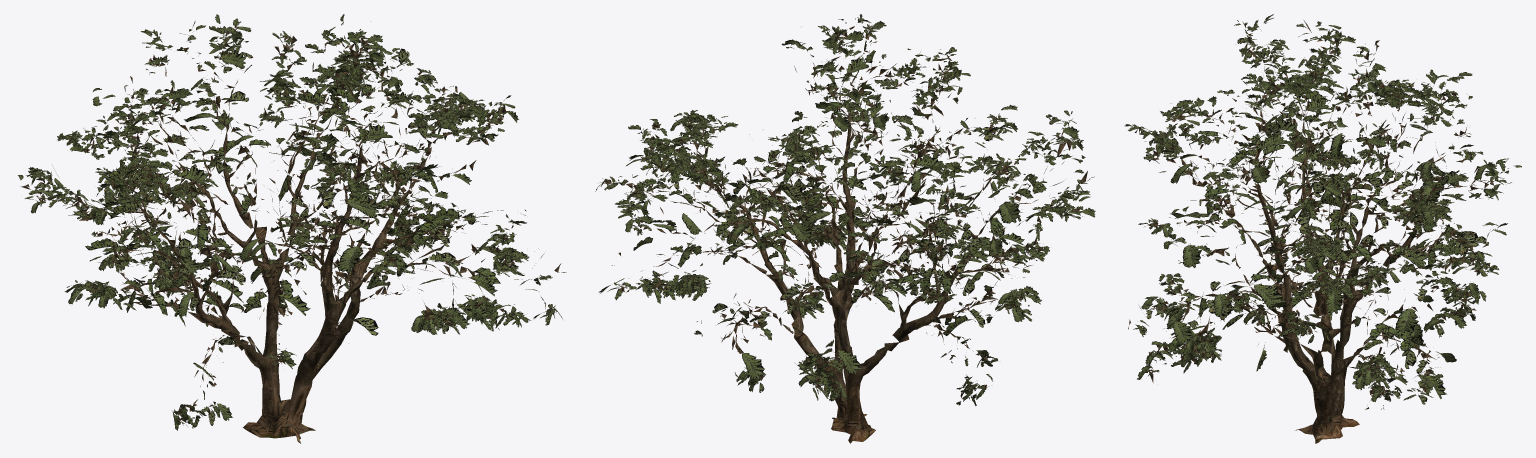
Rendered from acacia.glb.
3 views of the same model, side by side, from view 1: azimuth 30°, elevation 25°; view 2: azimuth 150°, elevation 25°; view 3: azimuth 270°, elevation 25° (orthographic). The views are drawn at different scales.
Parts seen in each view (by area): view 1: lod0; view 2: lod0; view 3: lod0.
Part boxes in pixels (bbox=[...]): lod0: bbox=[18, 14, 566, 443]; lod0: bbox=[595, 14, 1095, 443]; lod0: bbox=[1124, 14, 1521, 443].
Size of what is drawn, in the model's own units: 13.38 by 10.68 by 10.08.
Materials: 3 (3 with a texture image).
